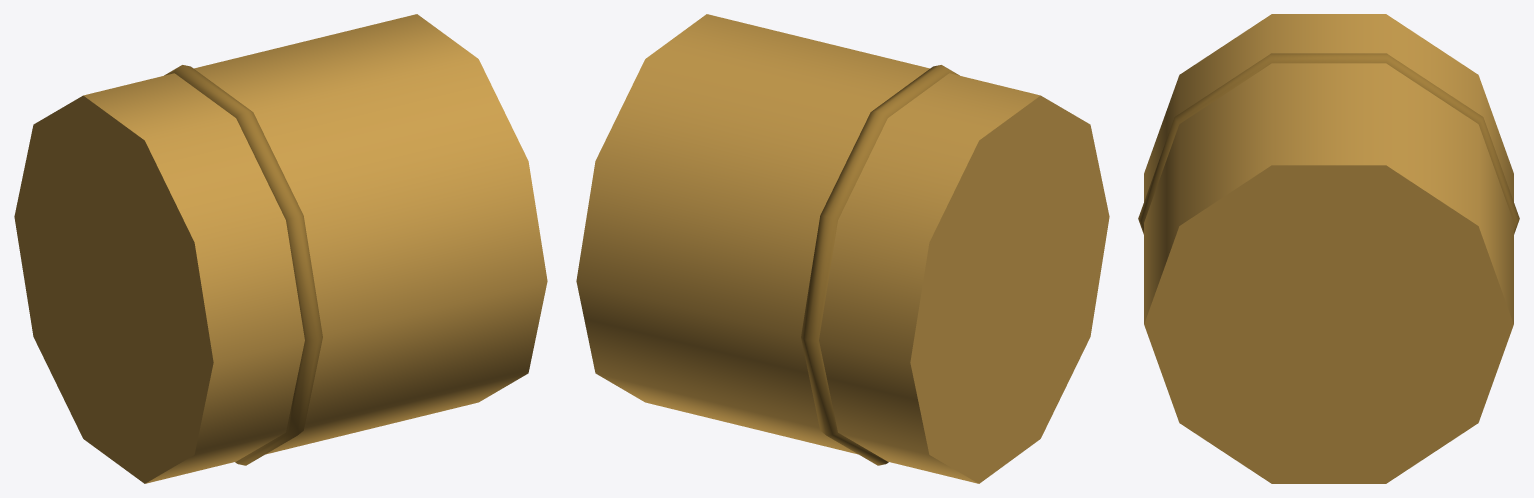
File: hay_low.glb
3 renders of one model, left to right at view 1: azimuth 30°, elevation 25°; view 2: azimuth 150°, elevation 25°; view 3: azimuth 270°, elevation 25°, orthographic. The views are drawn at different scales.
Size of the model in its own units: 1.2 by 1.22 by 1.28.
